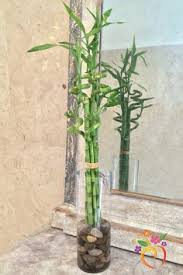bamboo: (69, 1, 119, 229)
